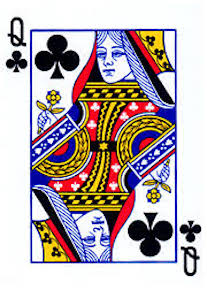QueenOfClubs: (1, 6, 203, 283)
